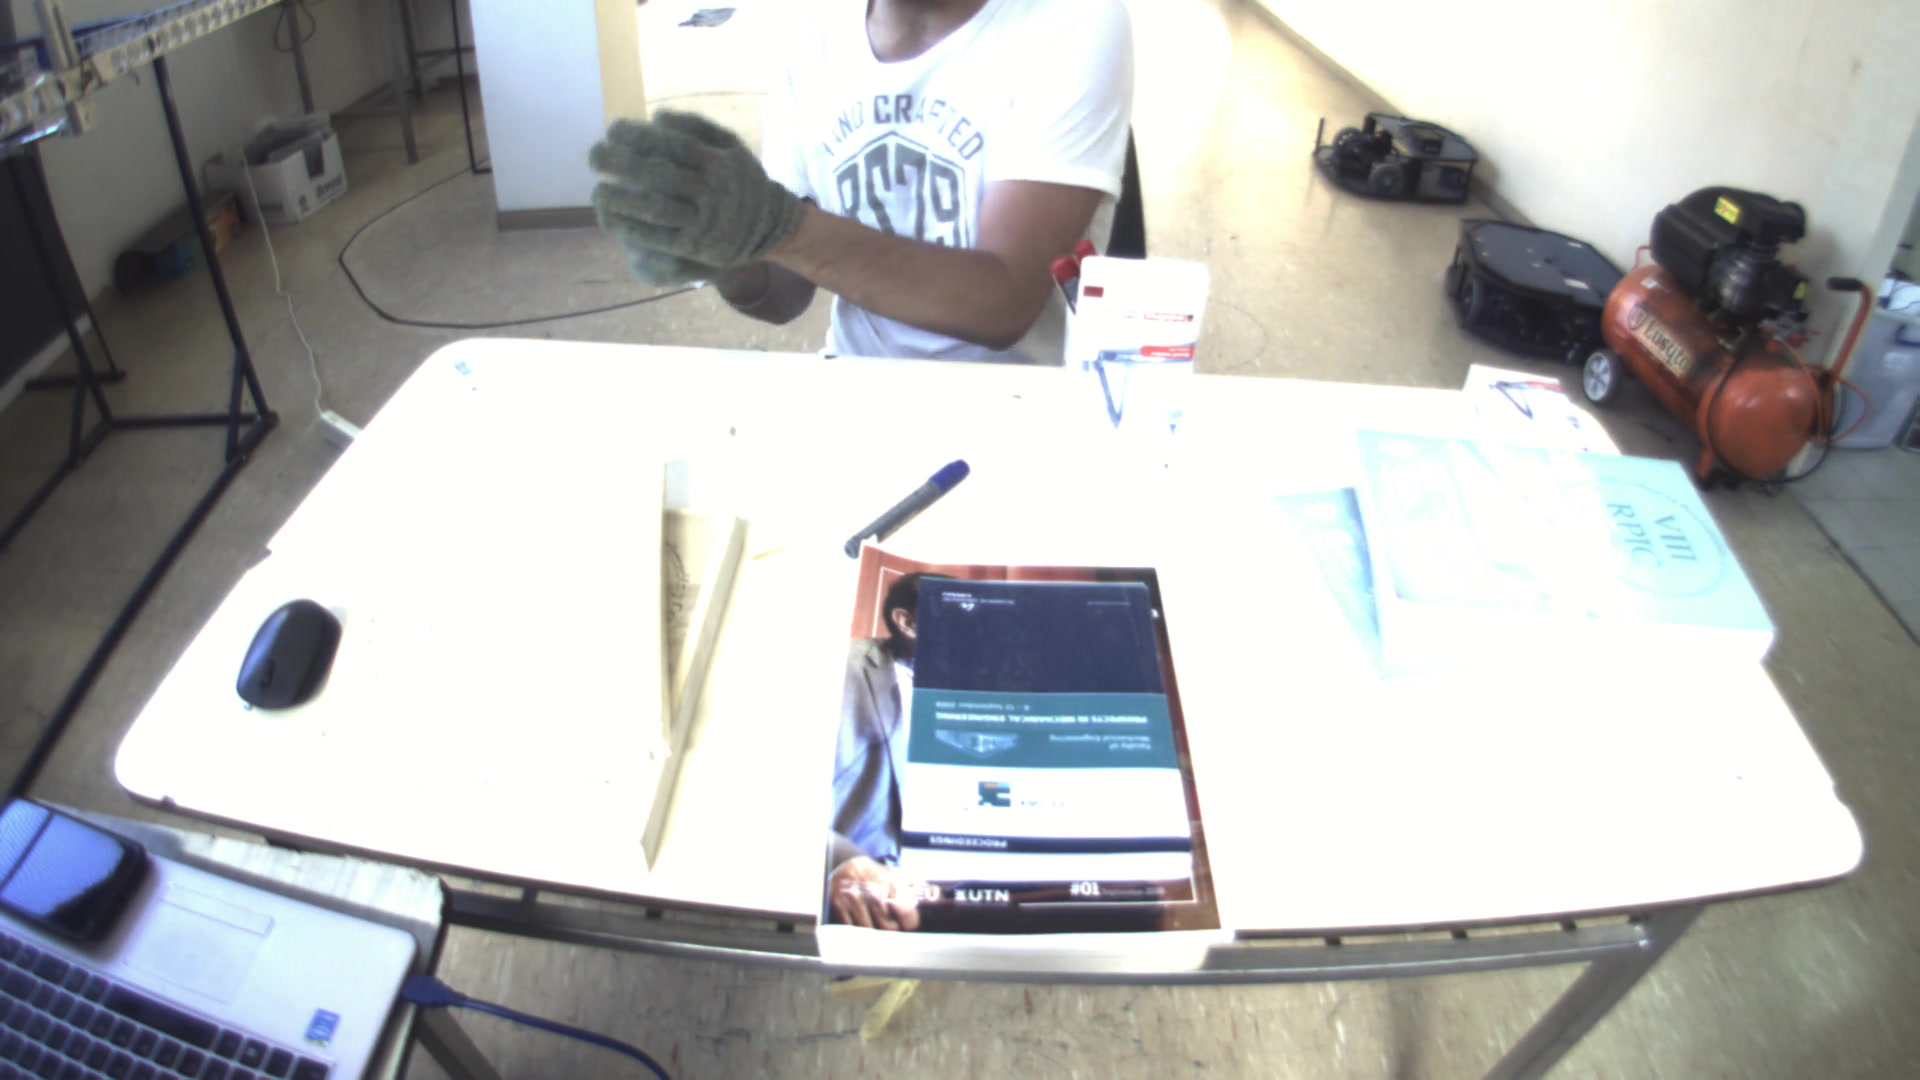hand: (574, 98, 799, 284)
